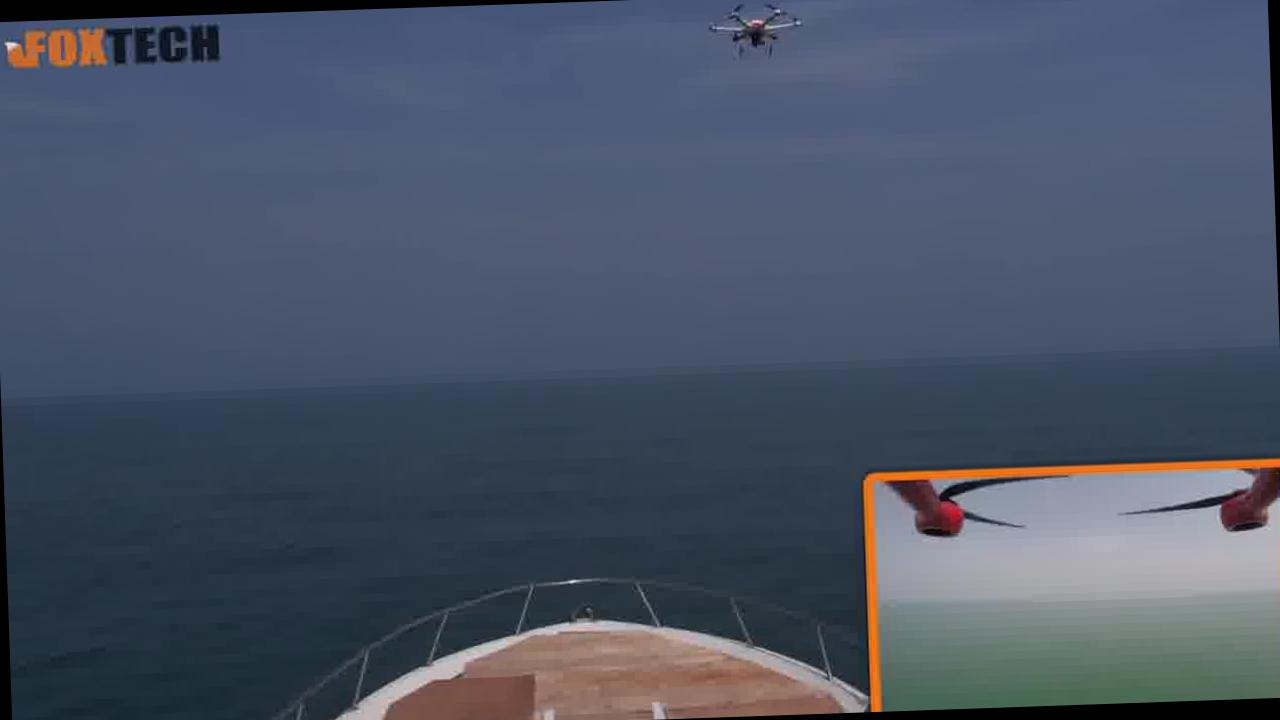drone: (698, 0, 812, 69)
